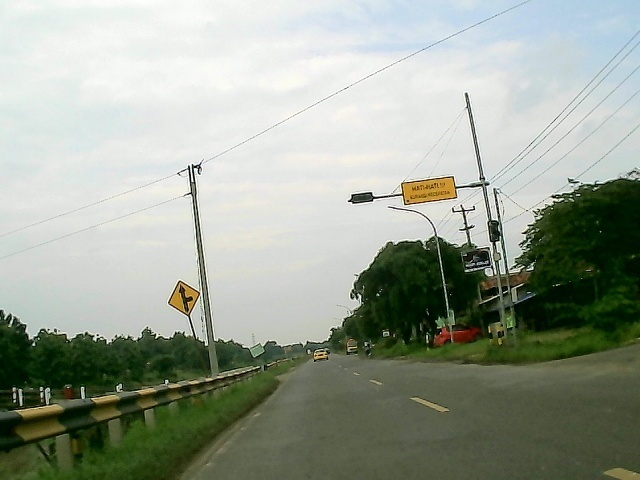Simpang kanan dengan prioritas: (164, 275, 206, 320)
